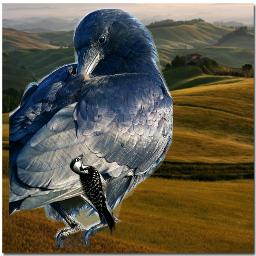Crow: (9, 8, 173, 248)
Woodpecker: (69, 151, 115, 236)
